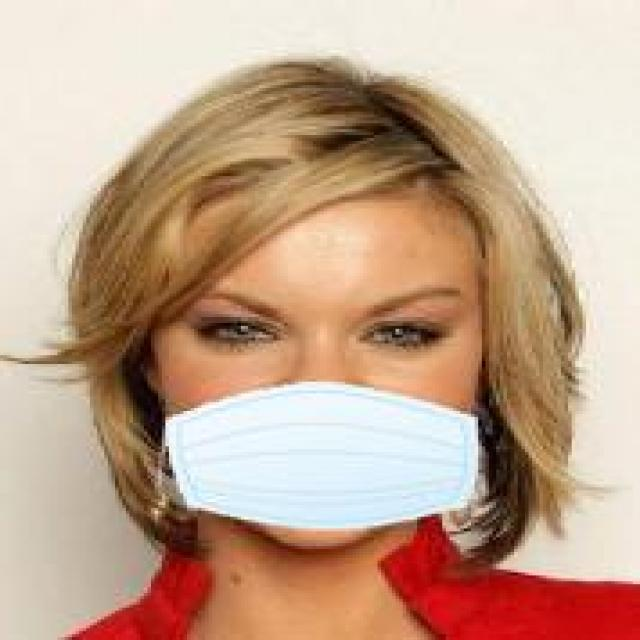mask: (65, 32, 582, 558)
